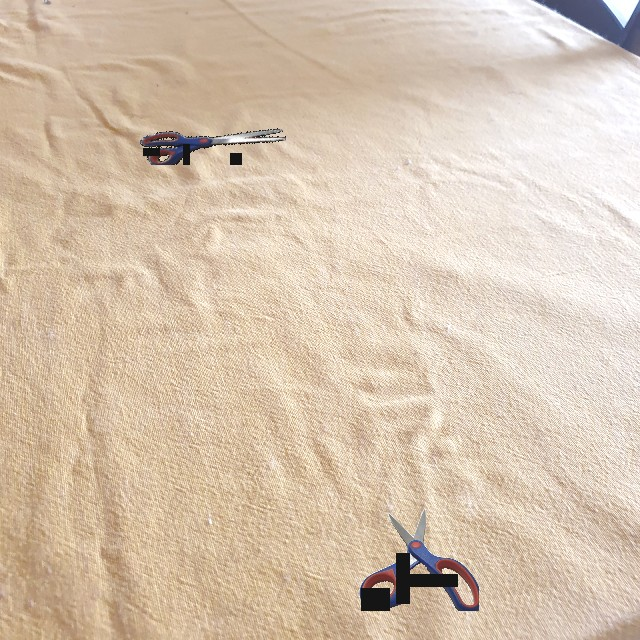scissors: (359, 509, 479, 611), (140, 128, 286, 165)
